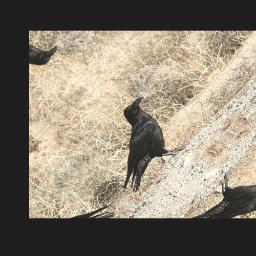Crow: (76, 94, 201, 197)
